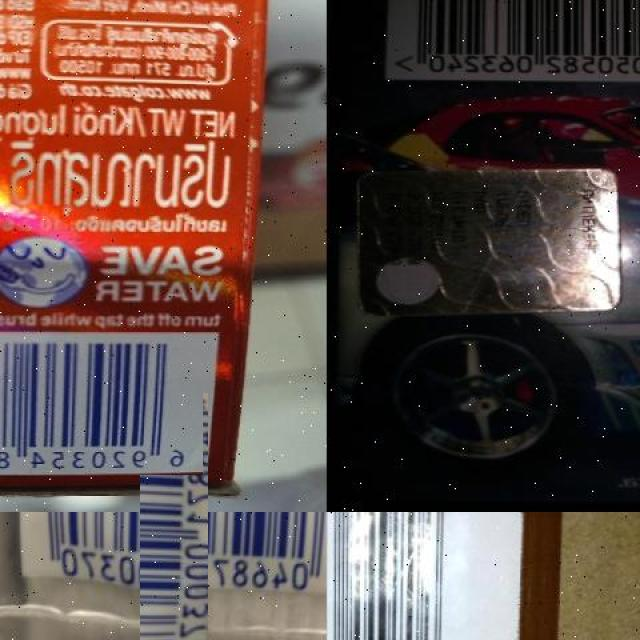Barcode: (81, 452, 267, 640), (0, 336, 203, 475), (383, 0, 640, 84), (327, 512, 477, 640)
